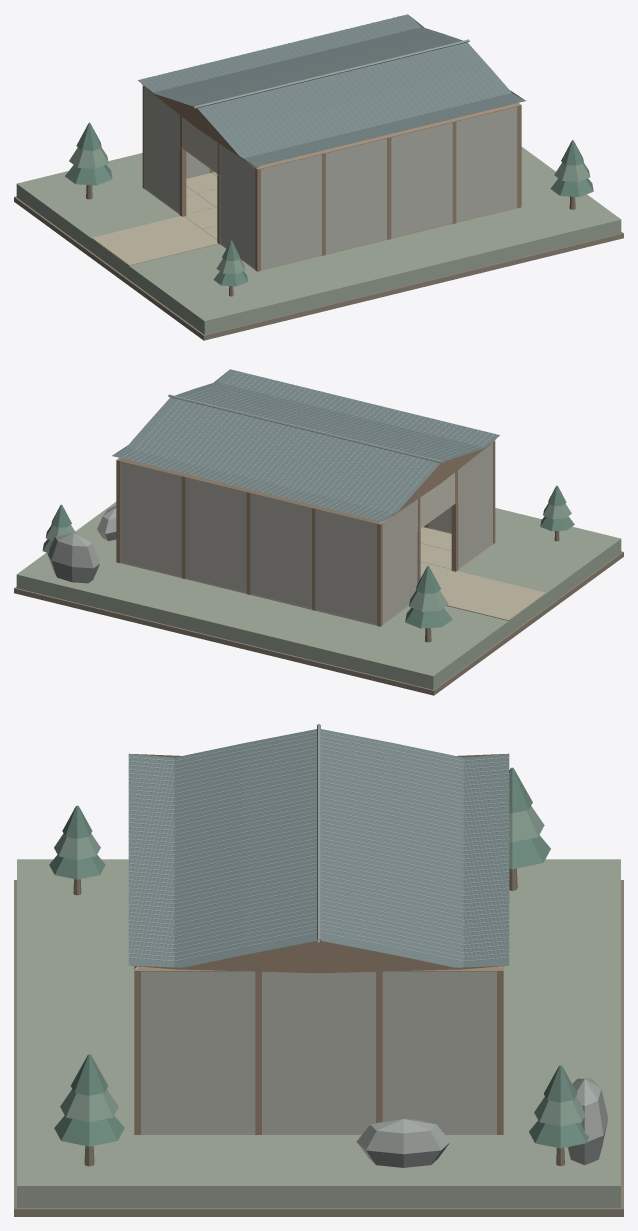
The model's file is mirror-store.glb.
The picture shows the model from 3 angles, top to bottom: view 1: azimuth 30°, elevation 25°; view 2: azimuth 150°, elevation 25°; view 3: azimuth 270°, elevation 25°; orthographic projection. The views are drawn at different scales.
Parts seen in each view (by area): view 1: ground, walls, roofs, vegetation; view 2: ground, walls, roofs, vegetation, details; view 3: ground, roofs, walls, vegetation, details.
Boxes of the visible parts, <box> form: ground: <box>14,147,623,340</box>; walls: <box>142,85,521,271</box>; roofs: <box>138,14,525,173</box>; vegetation: <box>65,122,593,296</box>; ground: <box>14,502,623,695</box>; walls: <box>116,440,495,626</box>; roofs: <box>112,369,499,530</box>; vegetation: <box>42,485,574,642</box>; details: <box>47,506,116,583</box>; ground: <box>14,859,623,1216</box>; roofs: <box>128,724,509,973</box>; walls: <box>134,966,503,1134</box>; vegetation: <box>49,767,588,1166</box>; details: <box>356,1078,608,1167</box>.
Bounding box in the file's own units: 19.66 × 6.43 × 15.39.
